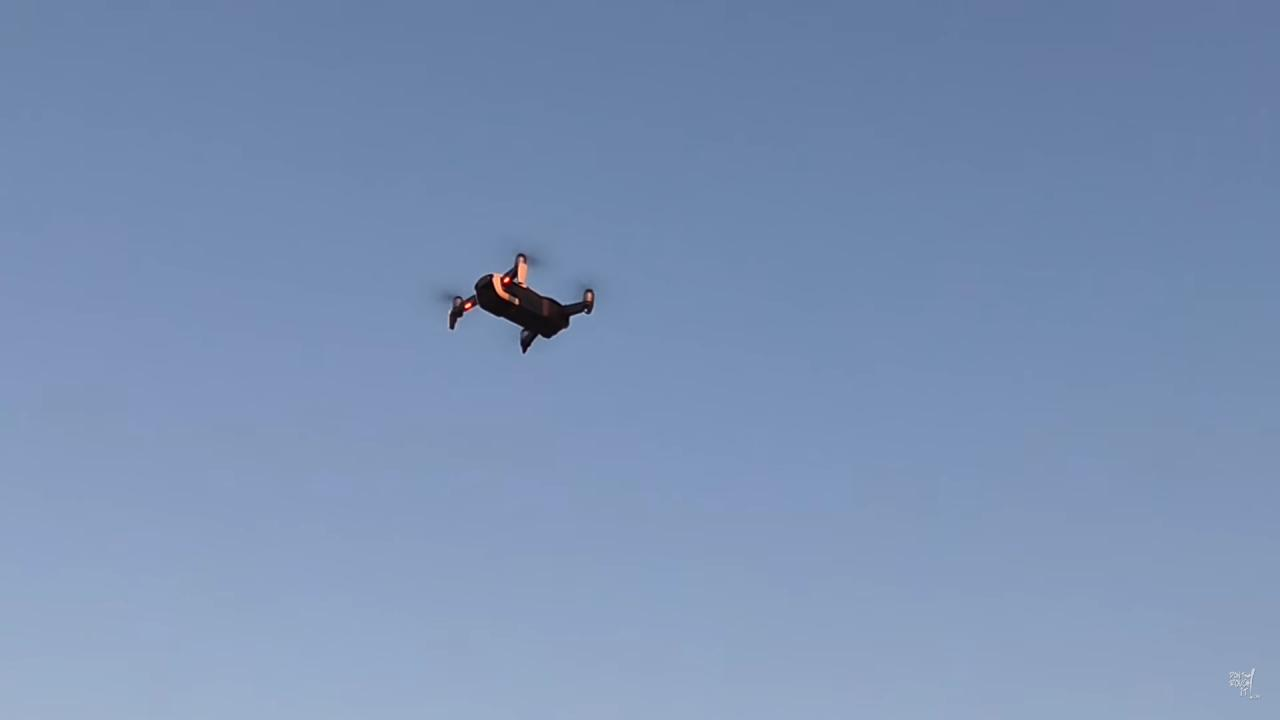Drone: (418, 235, 614, 370)
